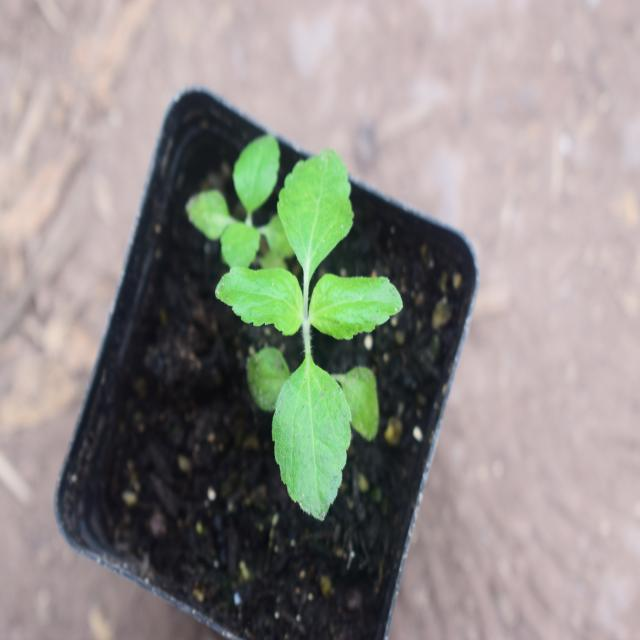billygoat_weed: (207, 150, 418, 502)
